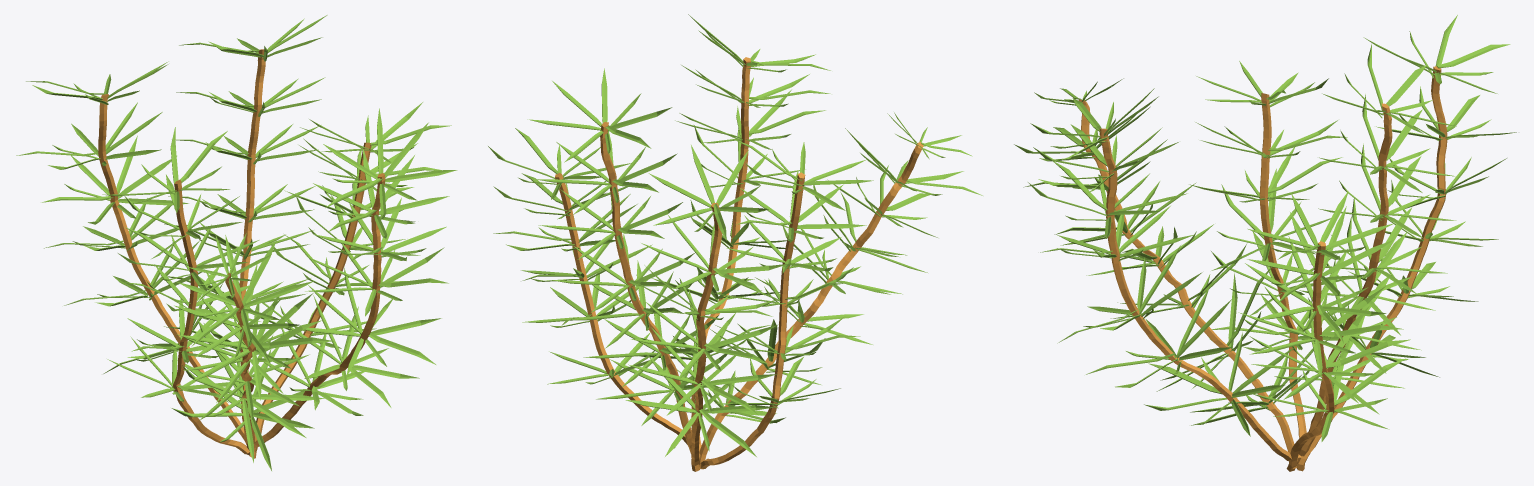
File: rosemary.fbx
3 views of the same model, side by side, from view 1: azimuth 30°, elevation 25°; view 2: azimuth 150°, elevation 25°; view 3: azimuth 270°, elevation 25° (orthographic). The views are drawn at different scales.
Visible parts, largest first — view 1: group920658786; view 2: group920658786; view 3: group920658786.
Boxes of the visible parts, x1=… form: group920658786: x1=16, y1=15, x2=457, y2=470; group920658786: x1=488, y1=14, x2=982, y2=471; group920658786: x1=1014, y1=15, x2=1516, y2=471.
Size of the model in its own units: 102 by 104 by 113.
